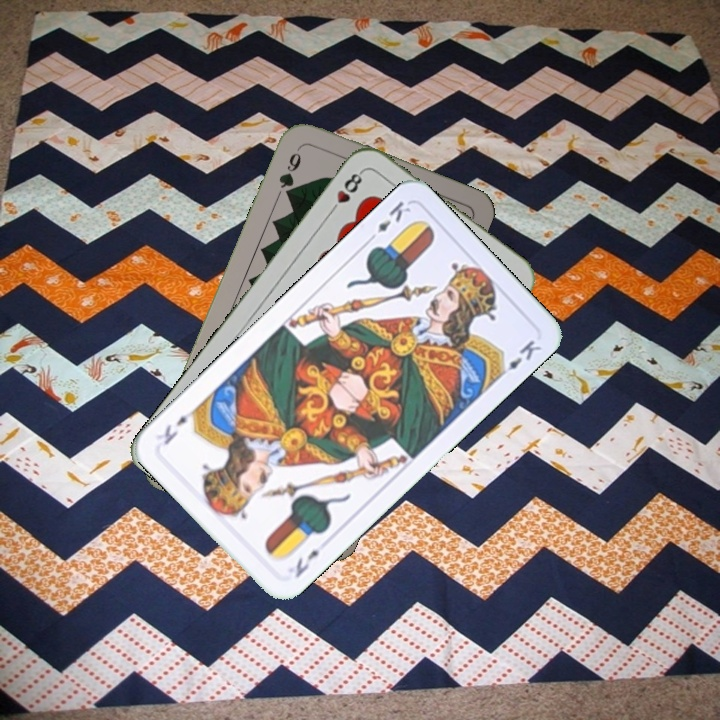EK: (363, 196, 414, 245), (291, 545, 323, 581)
G9: (274, 142, 305, 201)
H8: (325, 166, 366, 217)
